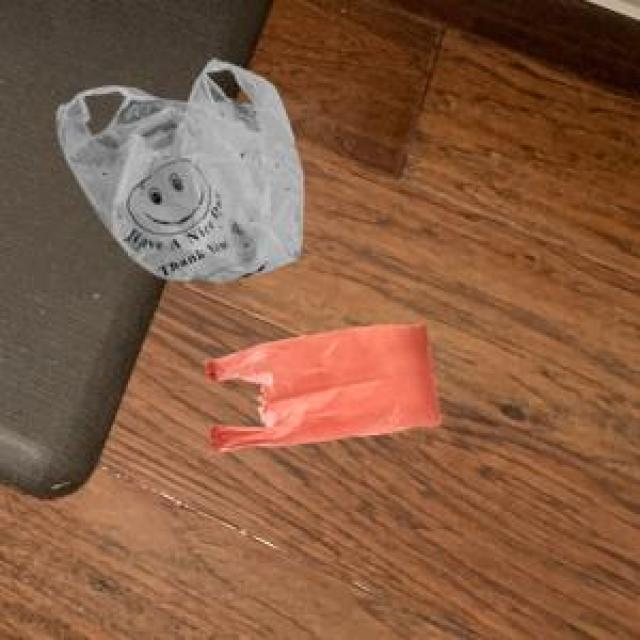plastic: (38, 59, 472, 468)
